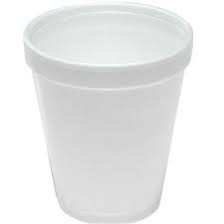paper_cup: (16, 0, 198, 224)
